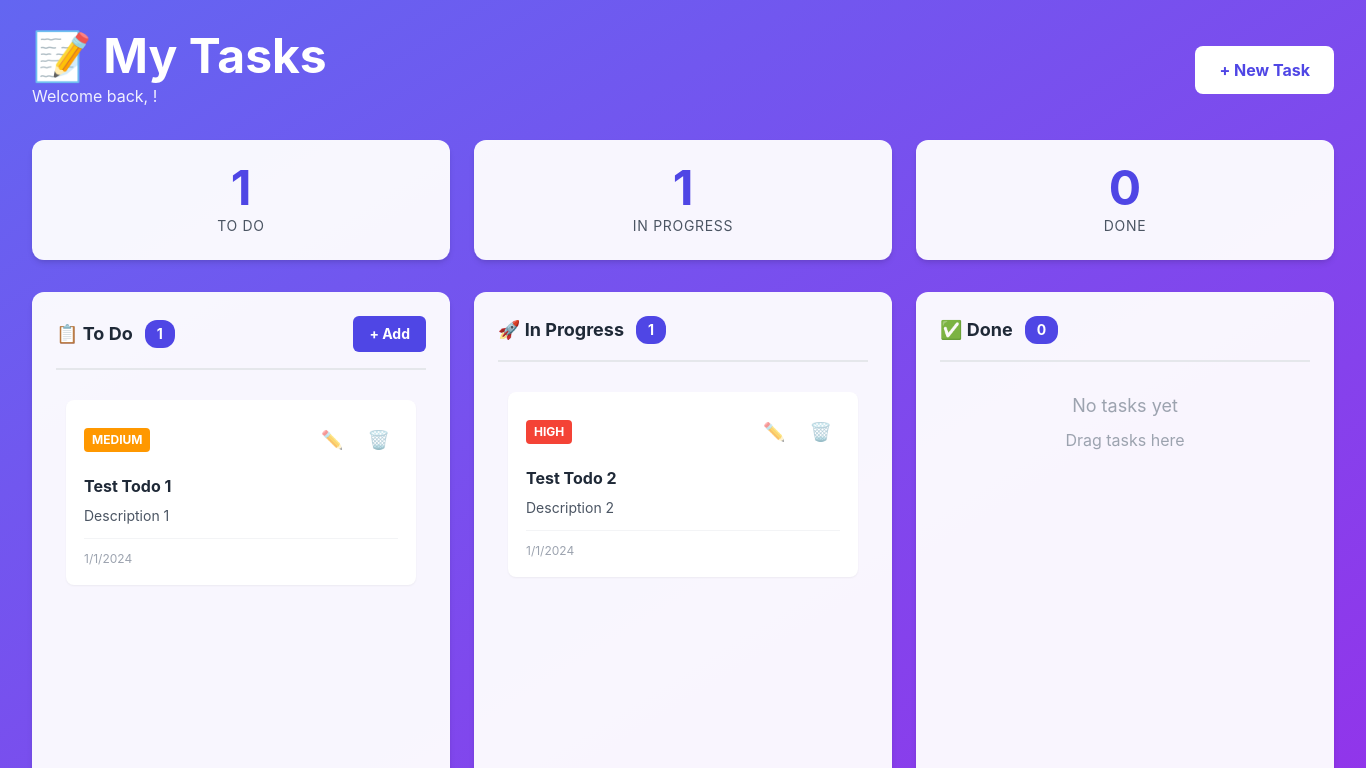
Test: TodoBoard - Drag and Drop › displays create modal when New Task button is clicked
Expected: the heading "Test Todo 1" is shown, left=84, top=476, right=171, bottom=496
Click the button "+ New Task" at (1265, 70), box left=1195, top=46, right=1334, bottom=94
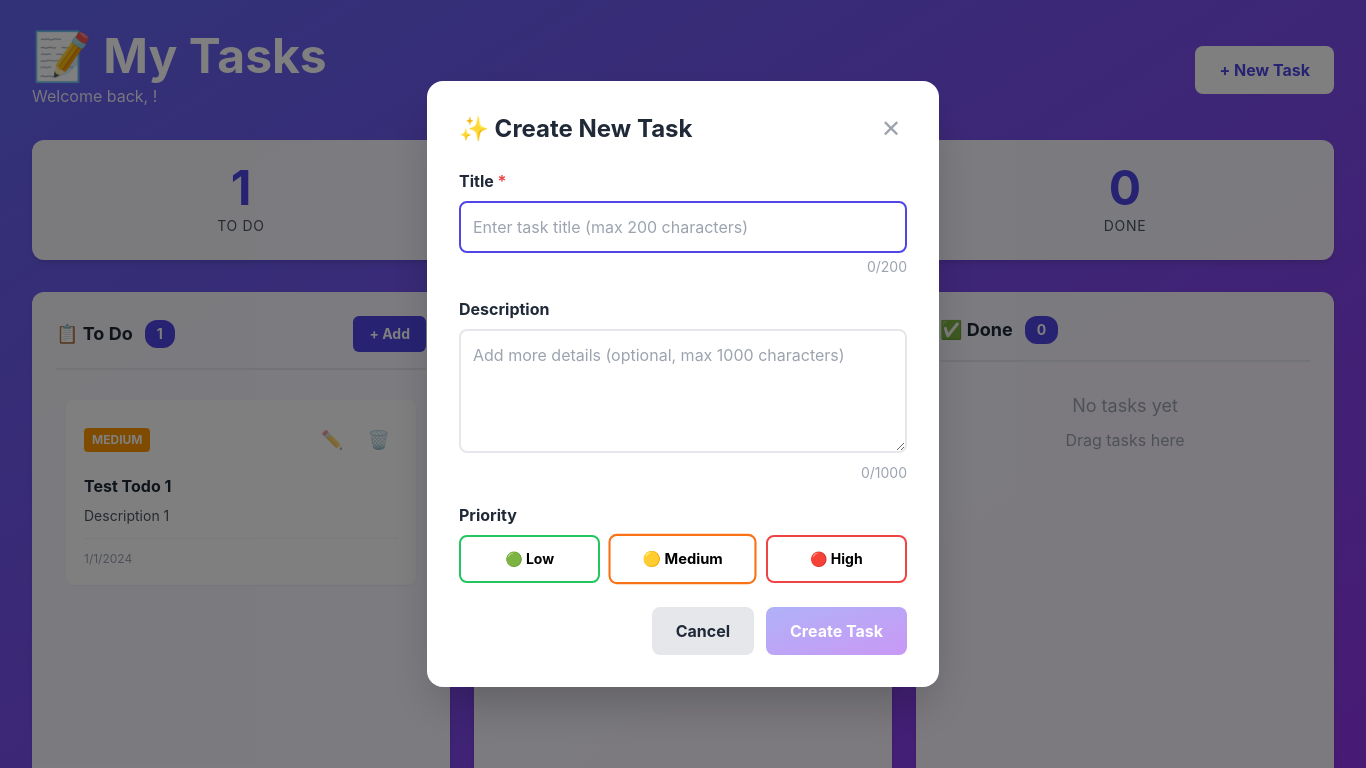
Expected: the heading "✨ Create New Task" is shown, left=459, top=113, right=692, bottom=145
